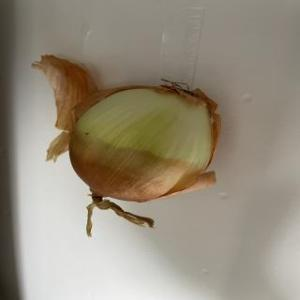onion: (68, 79, 224, 236)
